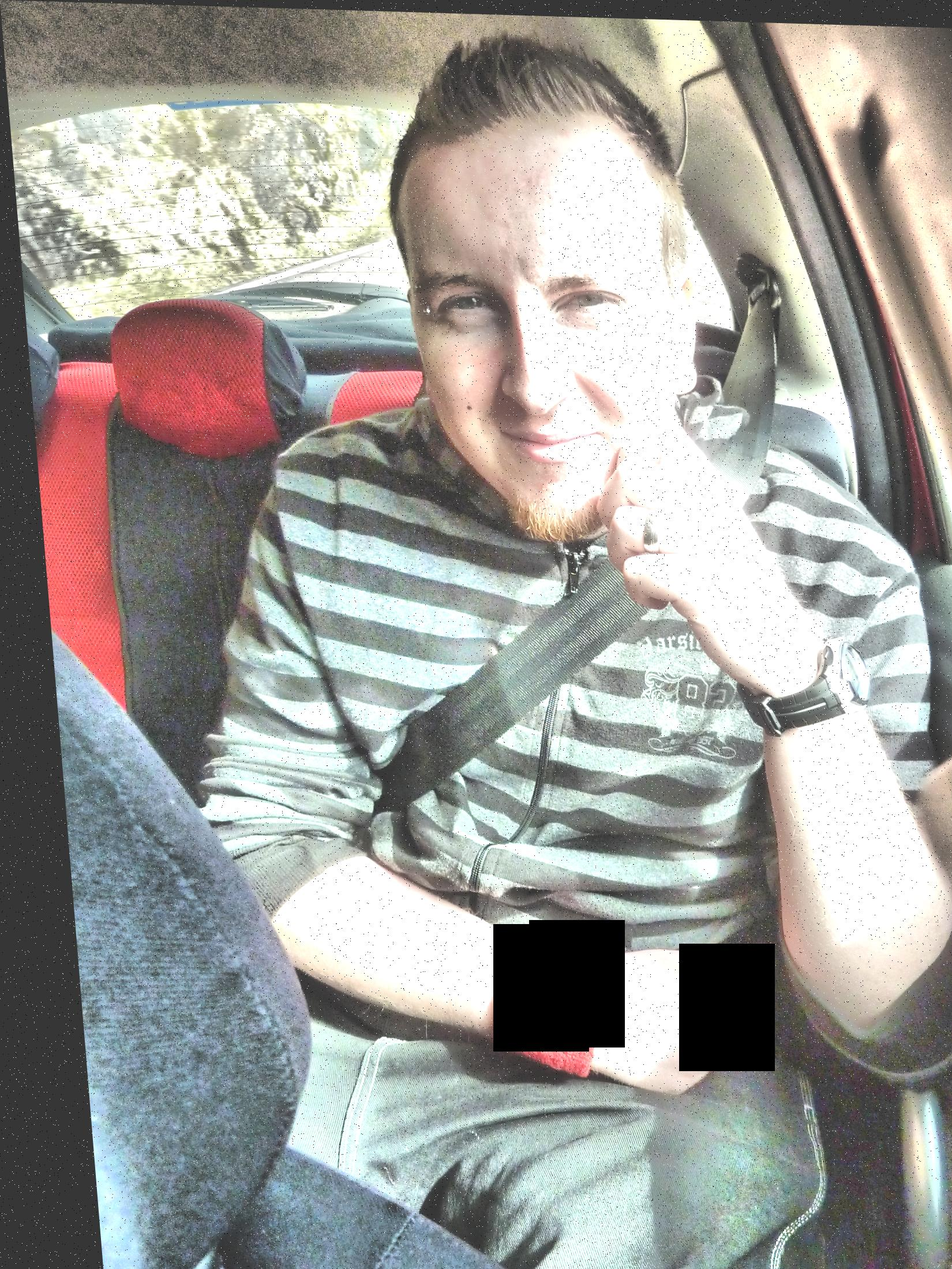seatbelt: (312, 245, 850, 810)
